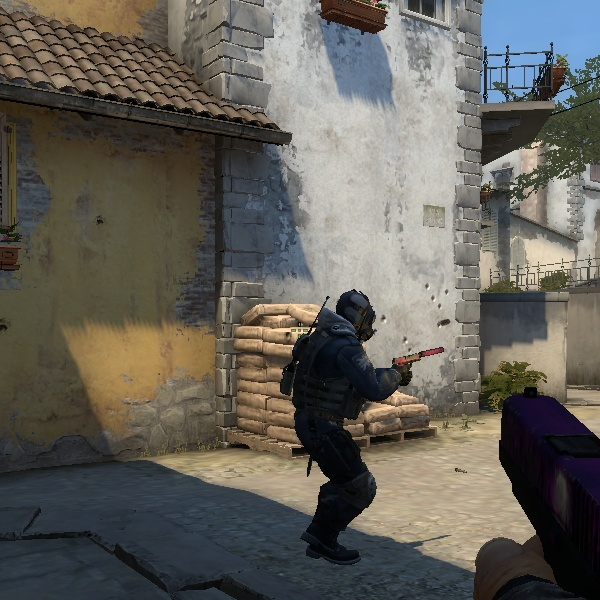ct_body: (264, 274, 415, 563)
ct_head: (325, 285, 385, 345)
